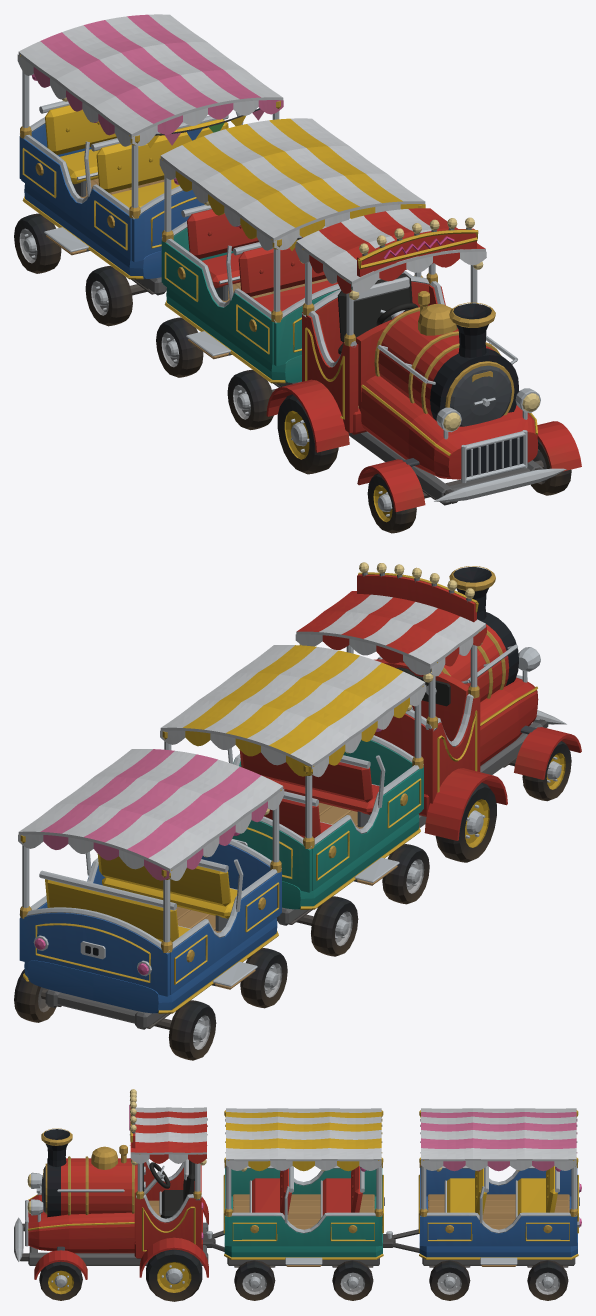
Rendered from park-tram.glb.
The picture shows the model from 3 angles, top to bottom: view 1: azimuth 30°, elevation 25°; view 2: azimuth 150°, elevation 25°; view 3: azimuth 270°, elevation 25°; orthographic projection. The views are drawn at different scales.
Parts seen in each view (by area): view 1: park_tram; view 2: park_tram; view 3: park_tram.
Boxes of the visible parts, x1=… form: park_tram: x1=14, y1=14, x2=581, y2=533; park_tram: x1=14, y1=562, x2=581, y2=1060; park_tram: x1=14, y1=1089, x2=581, y2=1301.
Bounding box in the file's own units: 1.11 × 1.39 × 4.16.
